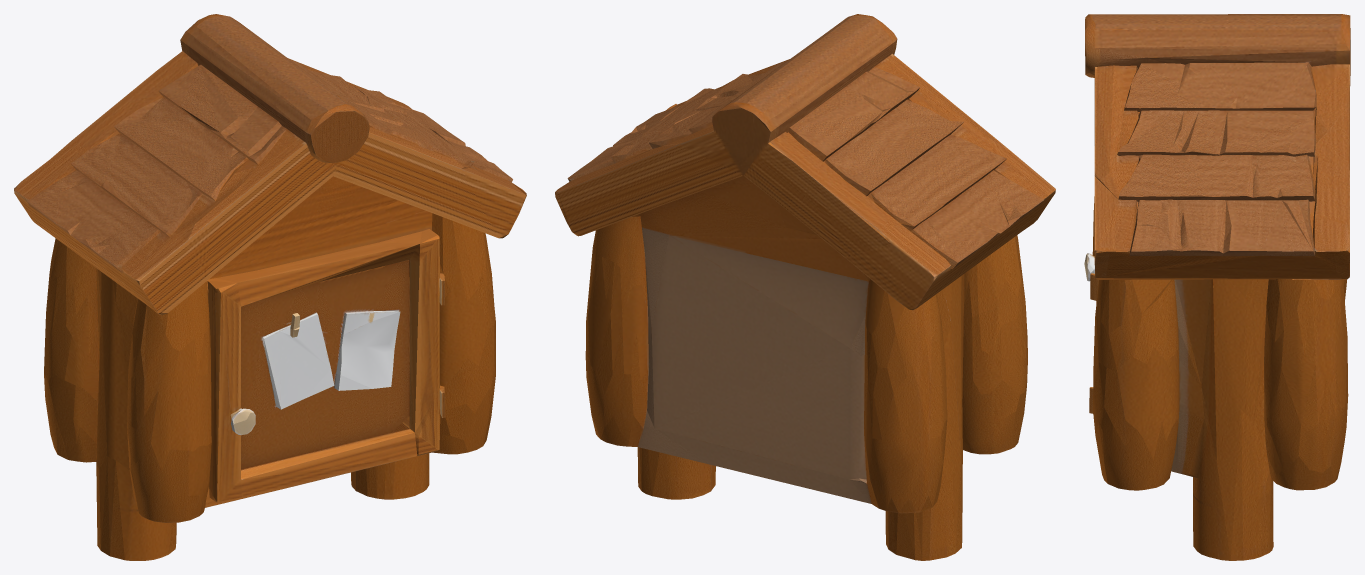
Rendered from board.glb.
3 views of the same model, side by side, from view 1: azimuth 30°, elevation 25°; view 2: azimuth 150°, elevation 25°; view 3: azimuth 270°, elevation 25° (orthographic). The views are drawn at different scales.
Bounding box in the file's own units: 1.73 × 1.9 × 0.9845.
Materials: 1 (1 with a texture image).
